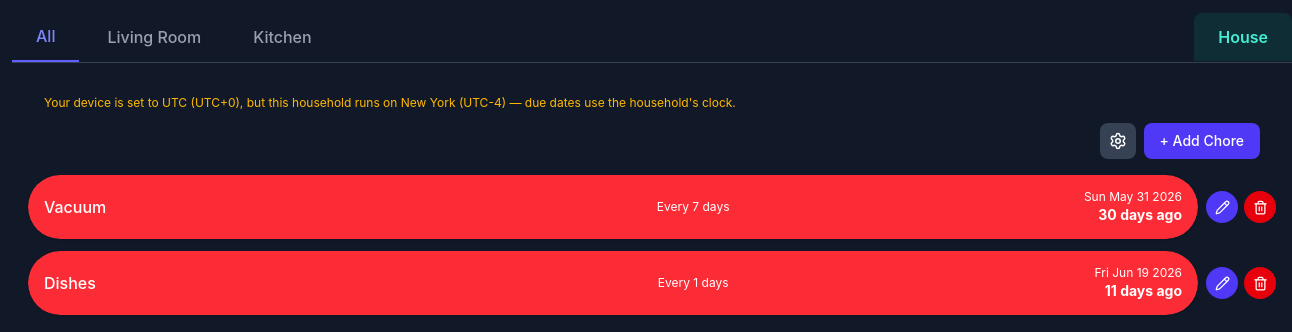
Test: App › renders a tab per distinct chore room and filters chores when a tab is selected
The width and height of the screenshot is (1292, 332).
Check: the text "Vacuum" is shown, box [44,197,106,217]
Check: the text "Dishes" is shown, box [44,273,96,293]
Click the button "Kitchen": {"x": 282, "y": 37} [229,13,336,61]
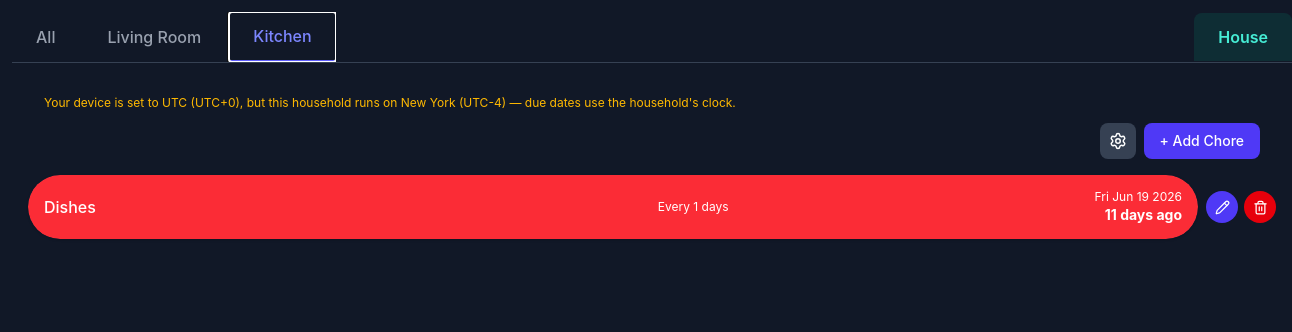
Check: the text "Dishes" is shown, box [44,197,96,217]
Check: the text "Vacuum" is gone
